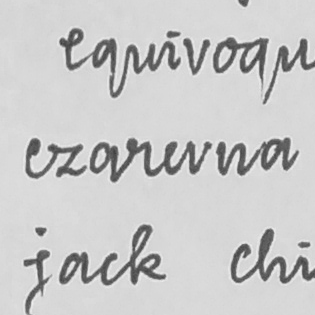a: (88, 139, 122, 184), (258, 134, 295, 172)
c: (22, 136, 45, 180)
e: (159, 139, 181, 177)
n: (215, 138, 248, 179)
r: (123, 134, 157, 181)
v: (183, 138, 213, 176)
z: (47, 138, 86, 180)
